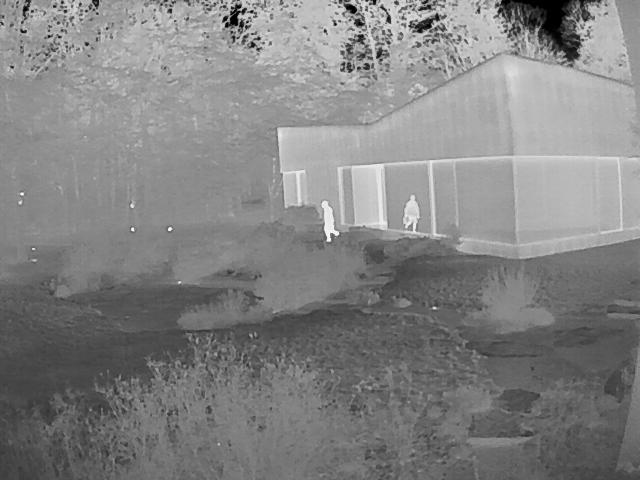person: (323, 198, 340, 241), (404, 194, 422, 231)
